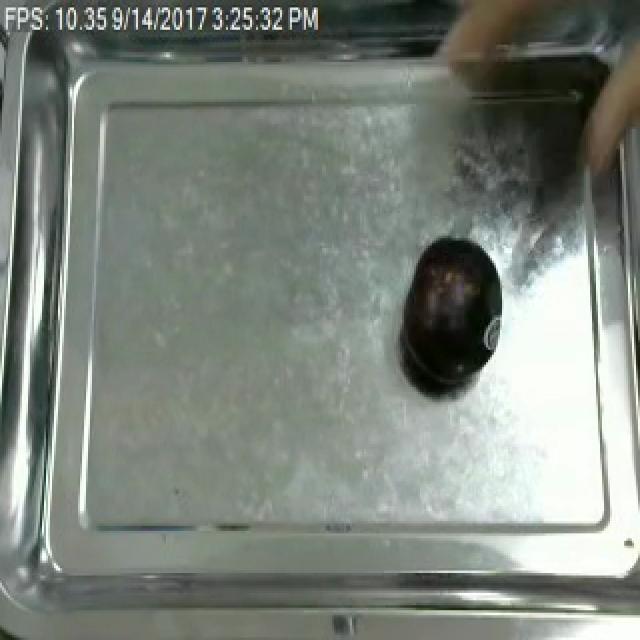Fruit: (394, 228, 508, 394)
